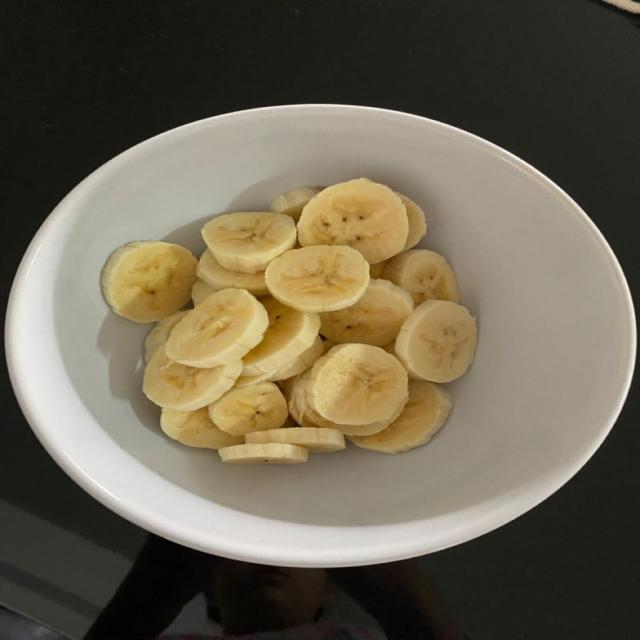banana slice: (298, 179, 408, 262), (307, 344, 407, 424), (166, 289, 268, 367), (101, 241, 196, 322), (282, 371, 402, 435), (351, 380, 452, 453), (266, 245, 369, 312), (395, 301, 477, 382), (320, 280, 413, 346), (143, 349, 241, 411), (243, 298, 319, 376), (202, 213, 296, 273), (235, 336, 324, 388), (383, 250, 459, 304), (209, 383, 287, 435), (160, 408, 243, 448), (197, 250, 268, 295), (267, 336, 324, 381), (247, 428, 346, 452), (145, 311, 186, 363), (270, 187, 323, 221), (219, 443, 307, 463), (397, 192, 426, 249), (192, 279, 218, 306), (234, 372, 271, 388), (370, 261, 387, 278), (282, 416, 299, 427), (323, 340, 337, 353), (382, 340, 394, 355)
